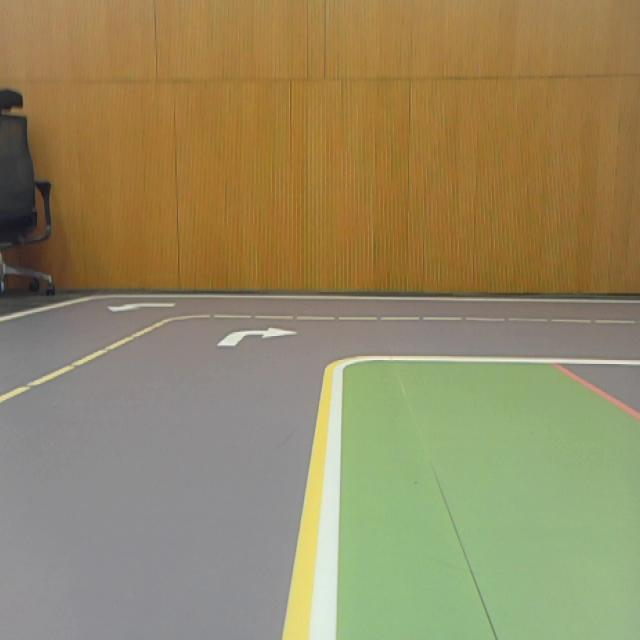left_lane: (0, 317, 169, 406)
right_lane: (282, 361, 333, 640), (0, 296, 83, 323)
